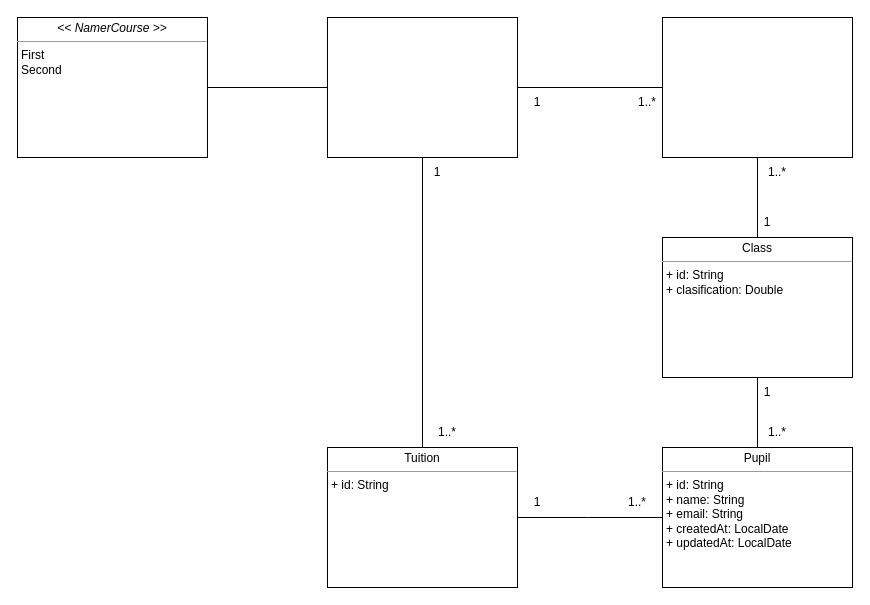
Image size: 870x605. Some labels were removed from this diagram. Each missing label, with the centre of its shape:
"Course + id: String + acronym: String + createdAt: LocalDate" goes at (422,87).
"Module + id: String + name: String + acronym: String + createdAt: LocalDate" goes at (757,87).
